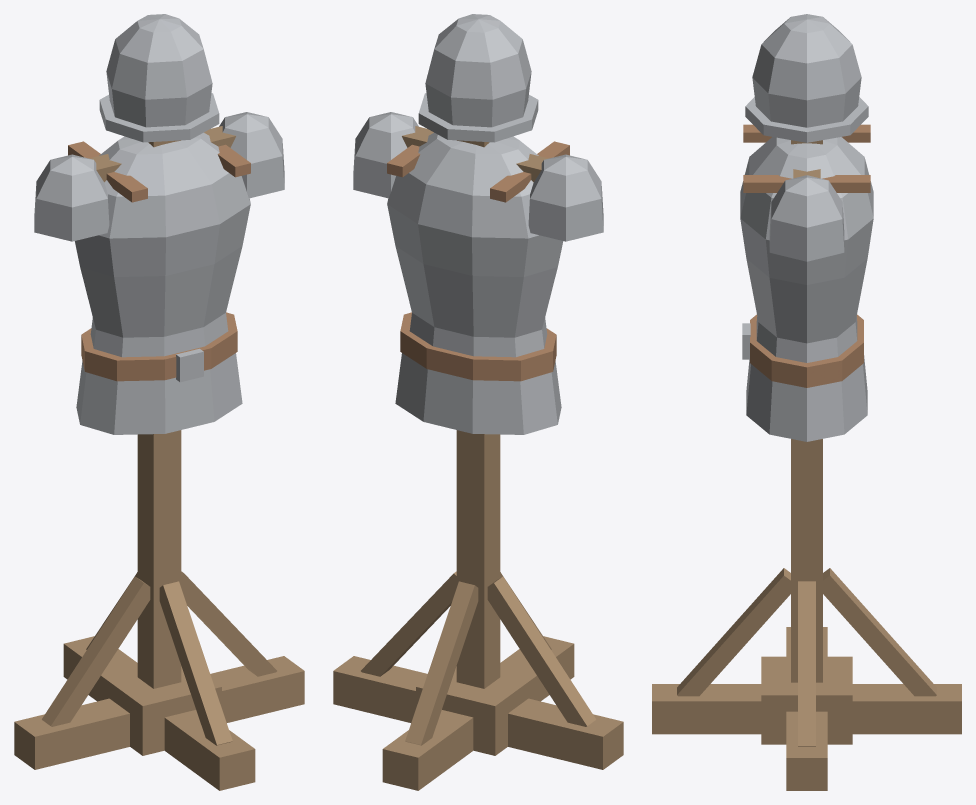
The model's file is prop-armor-stand-wood.glb.
3 views of the same model, side by side, from view 1: azimuth 30°, elevation 25°; view 2: azimuth 150°, elevation 25°; view 3: azimuth 270°, elevation 25° (orthographic).
Visible parts, largest first — view 1: prop-armor-stand-wood; view 2: prop-armor-stand-wood; view 3: prop-armor-stand-wood.
Part boxes in pixels (left/top/right/bottom): prop-armor-stand-wood: left=14, top=14, right=304, bottom=790; prop-armor-stand-wood: left=333, top=14, right=623, bottom=790; prop-armor-stand-wood: left=652, top=14, right=961, bottom=790.
Bounding box in the file's own units: 0.68 × 1.71 × 0.68.
